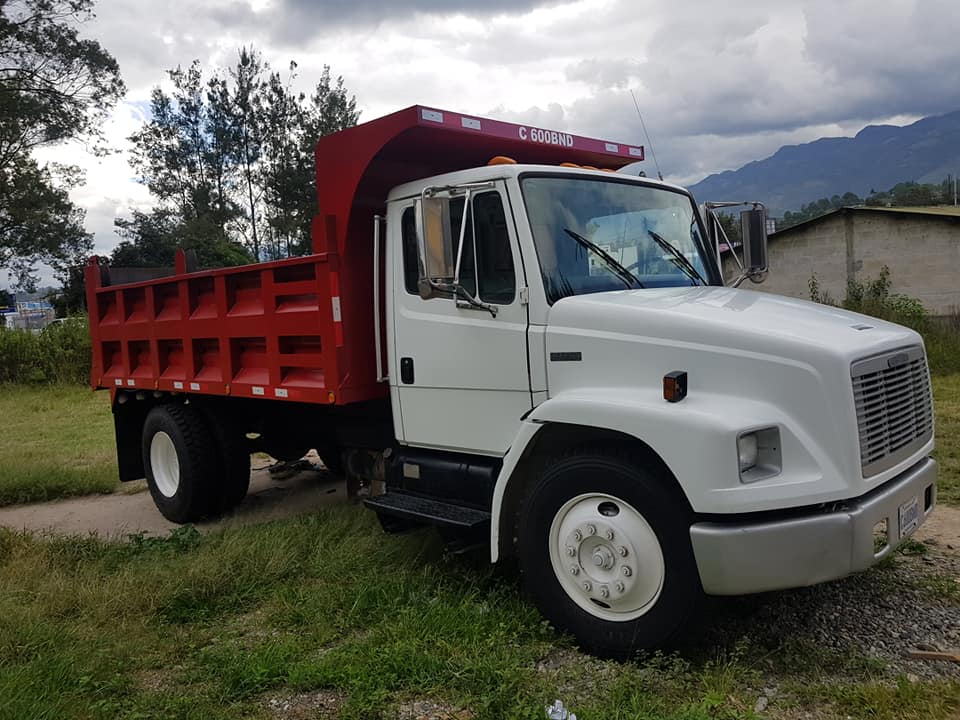camion: (74, 101, 938, 649)
